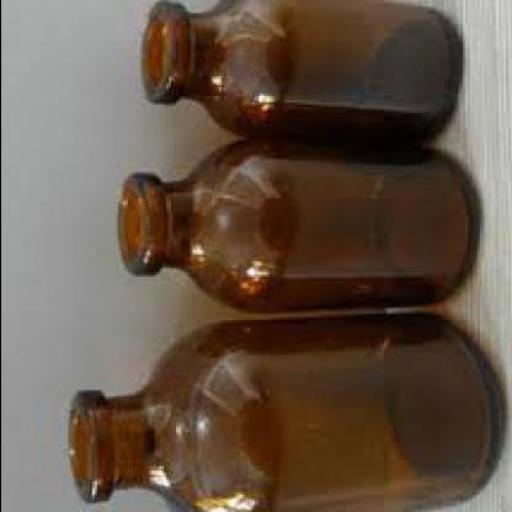glass: (63, 315, 498, 511), (114, 135, 474, 320), (139, 2, 457, 137)
